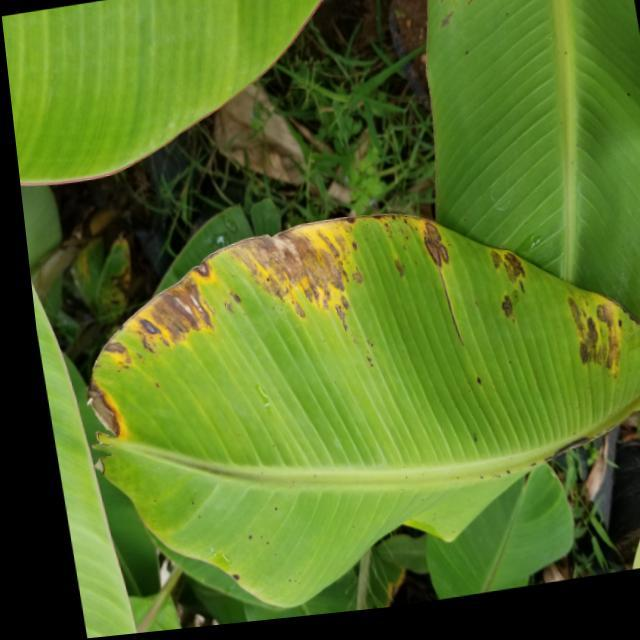Early_rust: (45, 178, 640, 464)
